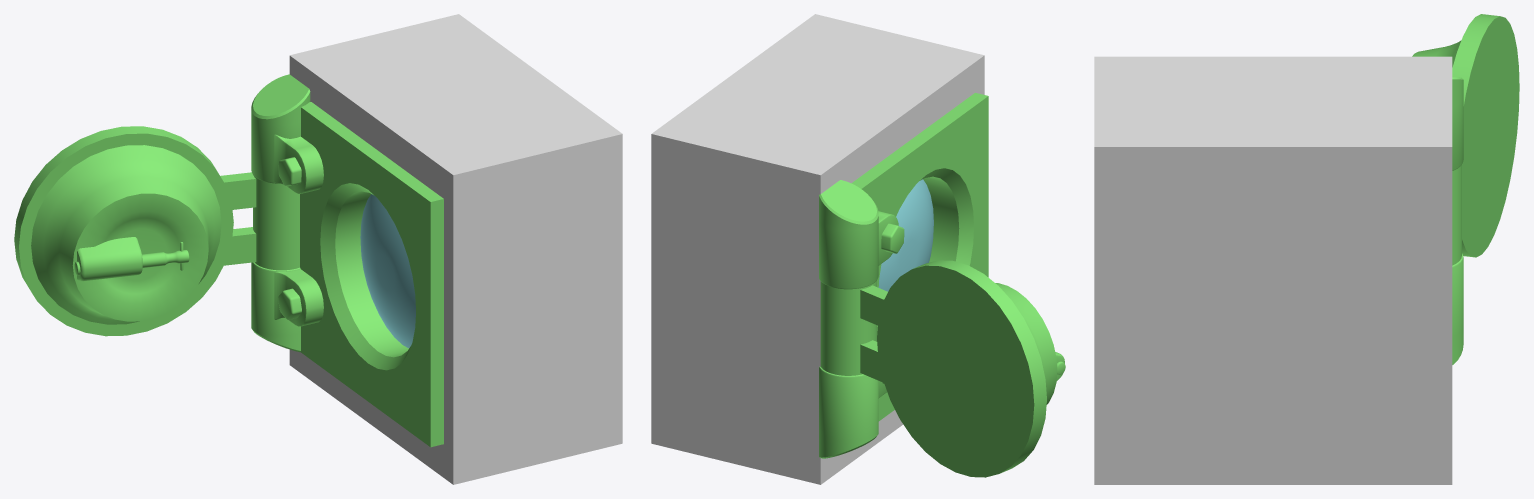
File: periscope round.fbx
3 views of the same model, side by side, from view 1: azimuth 30°, elevation 25°; view 2: azimuth 150°, elevation 25°; view 3: azimuth 270°, elevation 25° (orthographic). The views are drawn at different scales.
Visible parts, largest first — view 1: blackBox, Cube, Cube.002; view 2: blackBox, Cube, Cube.002; view 3: blackBox, Cube.
Part boxes in pixels (left/top/right/bottom): blackBox: left=289, top=14, right=622, bottom=484; Cube: left=14, top=74, right=443, bottom=447; Cube.002: left=360, top=194, right=415, bottom=348; blackBox: left=651, top=14, right=984, bottom=484; Cube: left=819, top=92, right=1065, bottom=477; Cube.002: left=878, top=179, right=933, bottom=291; blackBox: left=1094, top=56, right=1452, bottom=484; Cube: left=1412, top=14, right=1519, bottom=364.
Bounding box in the file's own units: 3081 × 2182 × 2487.
